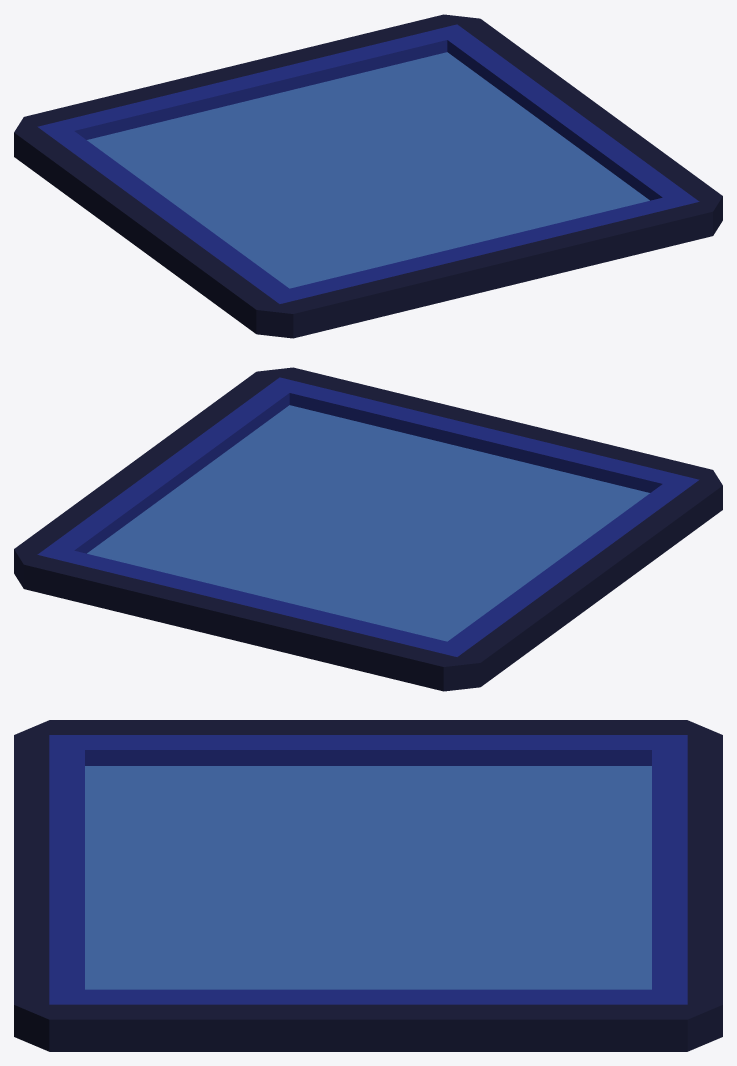
Rendered from grid_tile.fbx.
3 renders of one model, top to bottom at view 1: azimuth 30°, elevation 25°; view 2: azimuth 150°, elevation 25°; view 3: azimuth 270°, elevation 25°, orthographic. The views are drawn at different scales.
Visible parts, largest first — view 1: platform_large.230; view 2: platform_large.230; view 3: platform_large.230.
Boxes of the visible parts, left/top/right/bottom form: platform_large.230: left=14, top=14, right=722, bottom=338; platform_large.230: left=14, top=367, right=722, bottom=691; platform_large.230: left=14, top=720, right=722, bottom=1051.
Size of the model in its own units: 200 by 10 by 200.
